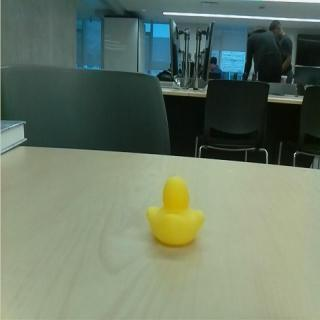duck_regular: (147, 178, 207, 252)
